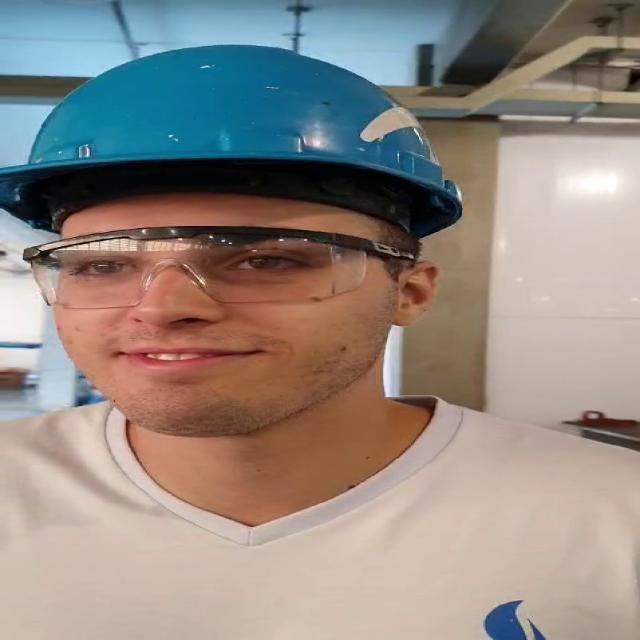oculos-epi: (24, 225, 411, 309)
